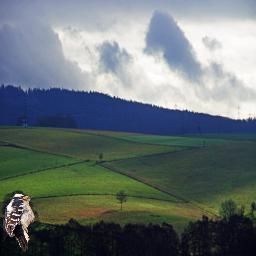Woodpecker: (3, 192, 43, 252)
